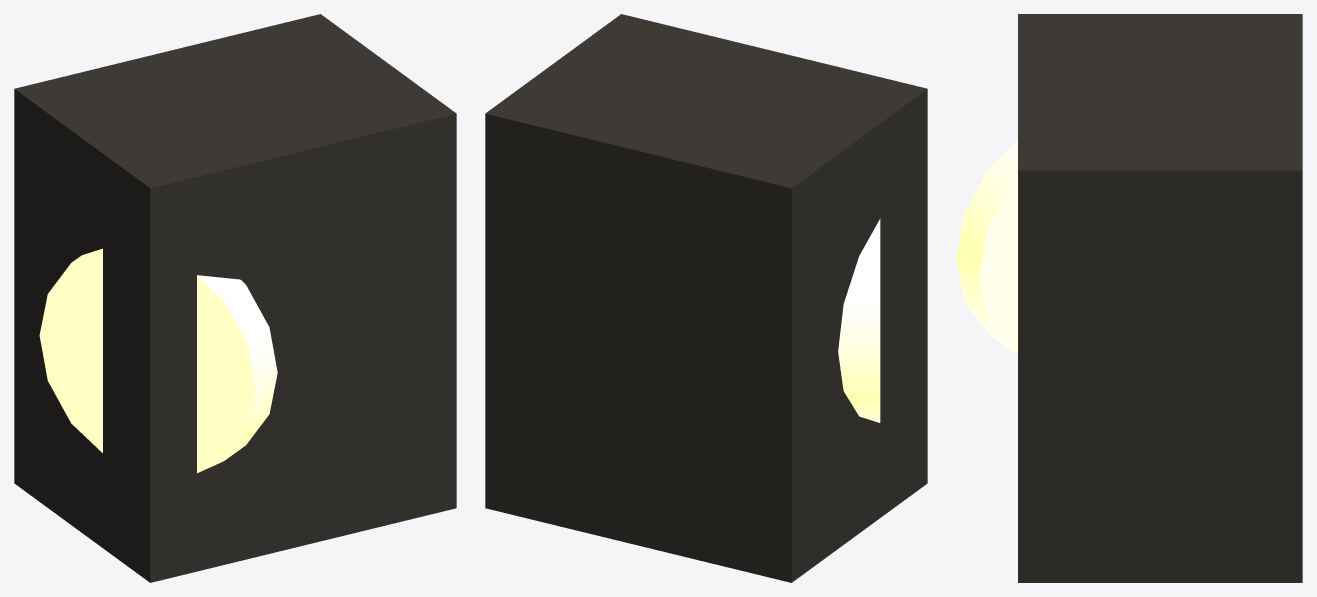
File: light-stair-step-03.gltf
3 renders of one model, left to right at view 1: azimuth 30°, elevation 25°; view 2: azimuth 150°, elevation 25°; view 3: azimuth 270°, elevation 25°, orthographic. The views are drawn at different scales.
Visible parts, largest first — view 1: Stair shielded step lamp 3, Stair warm step lens 3; view 2: Stair shielded step lamp 3, Stair warm step lens 3; view 3: Stair shielded step lamp 3, Stair warm step lens 3.
Boxes of the visible parts, bbox=[...] form: Stair shielded step lamp 3: bbox=[14, 14, 456, 582]; Stair warm step lens 3: bbox=[39, 248, 277, 473]; Stair shielded step lamp 3: bbox=[485, 14, 927, 582]; Stair warm step lens 3: bbox=[838, 219, 880, 422]; Stair shielded step lamp 3: bbox=[1018, 14, 1302, 582]; Stair warm step lens 3: bbox=[956, 141, 1017, 353].
Bounding box in the file's own units: 0.0717 × 0.08 × 0.0608.
